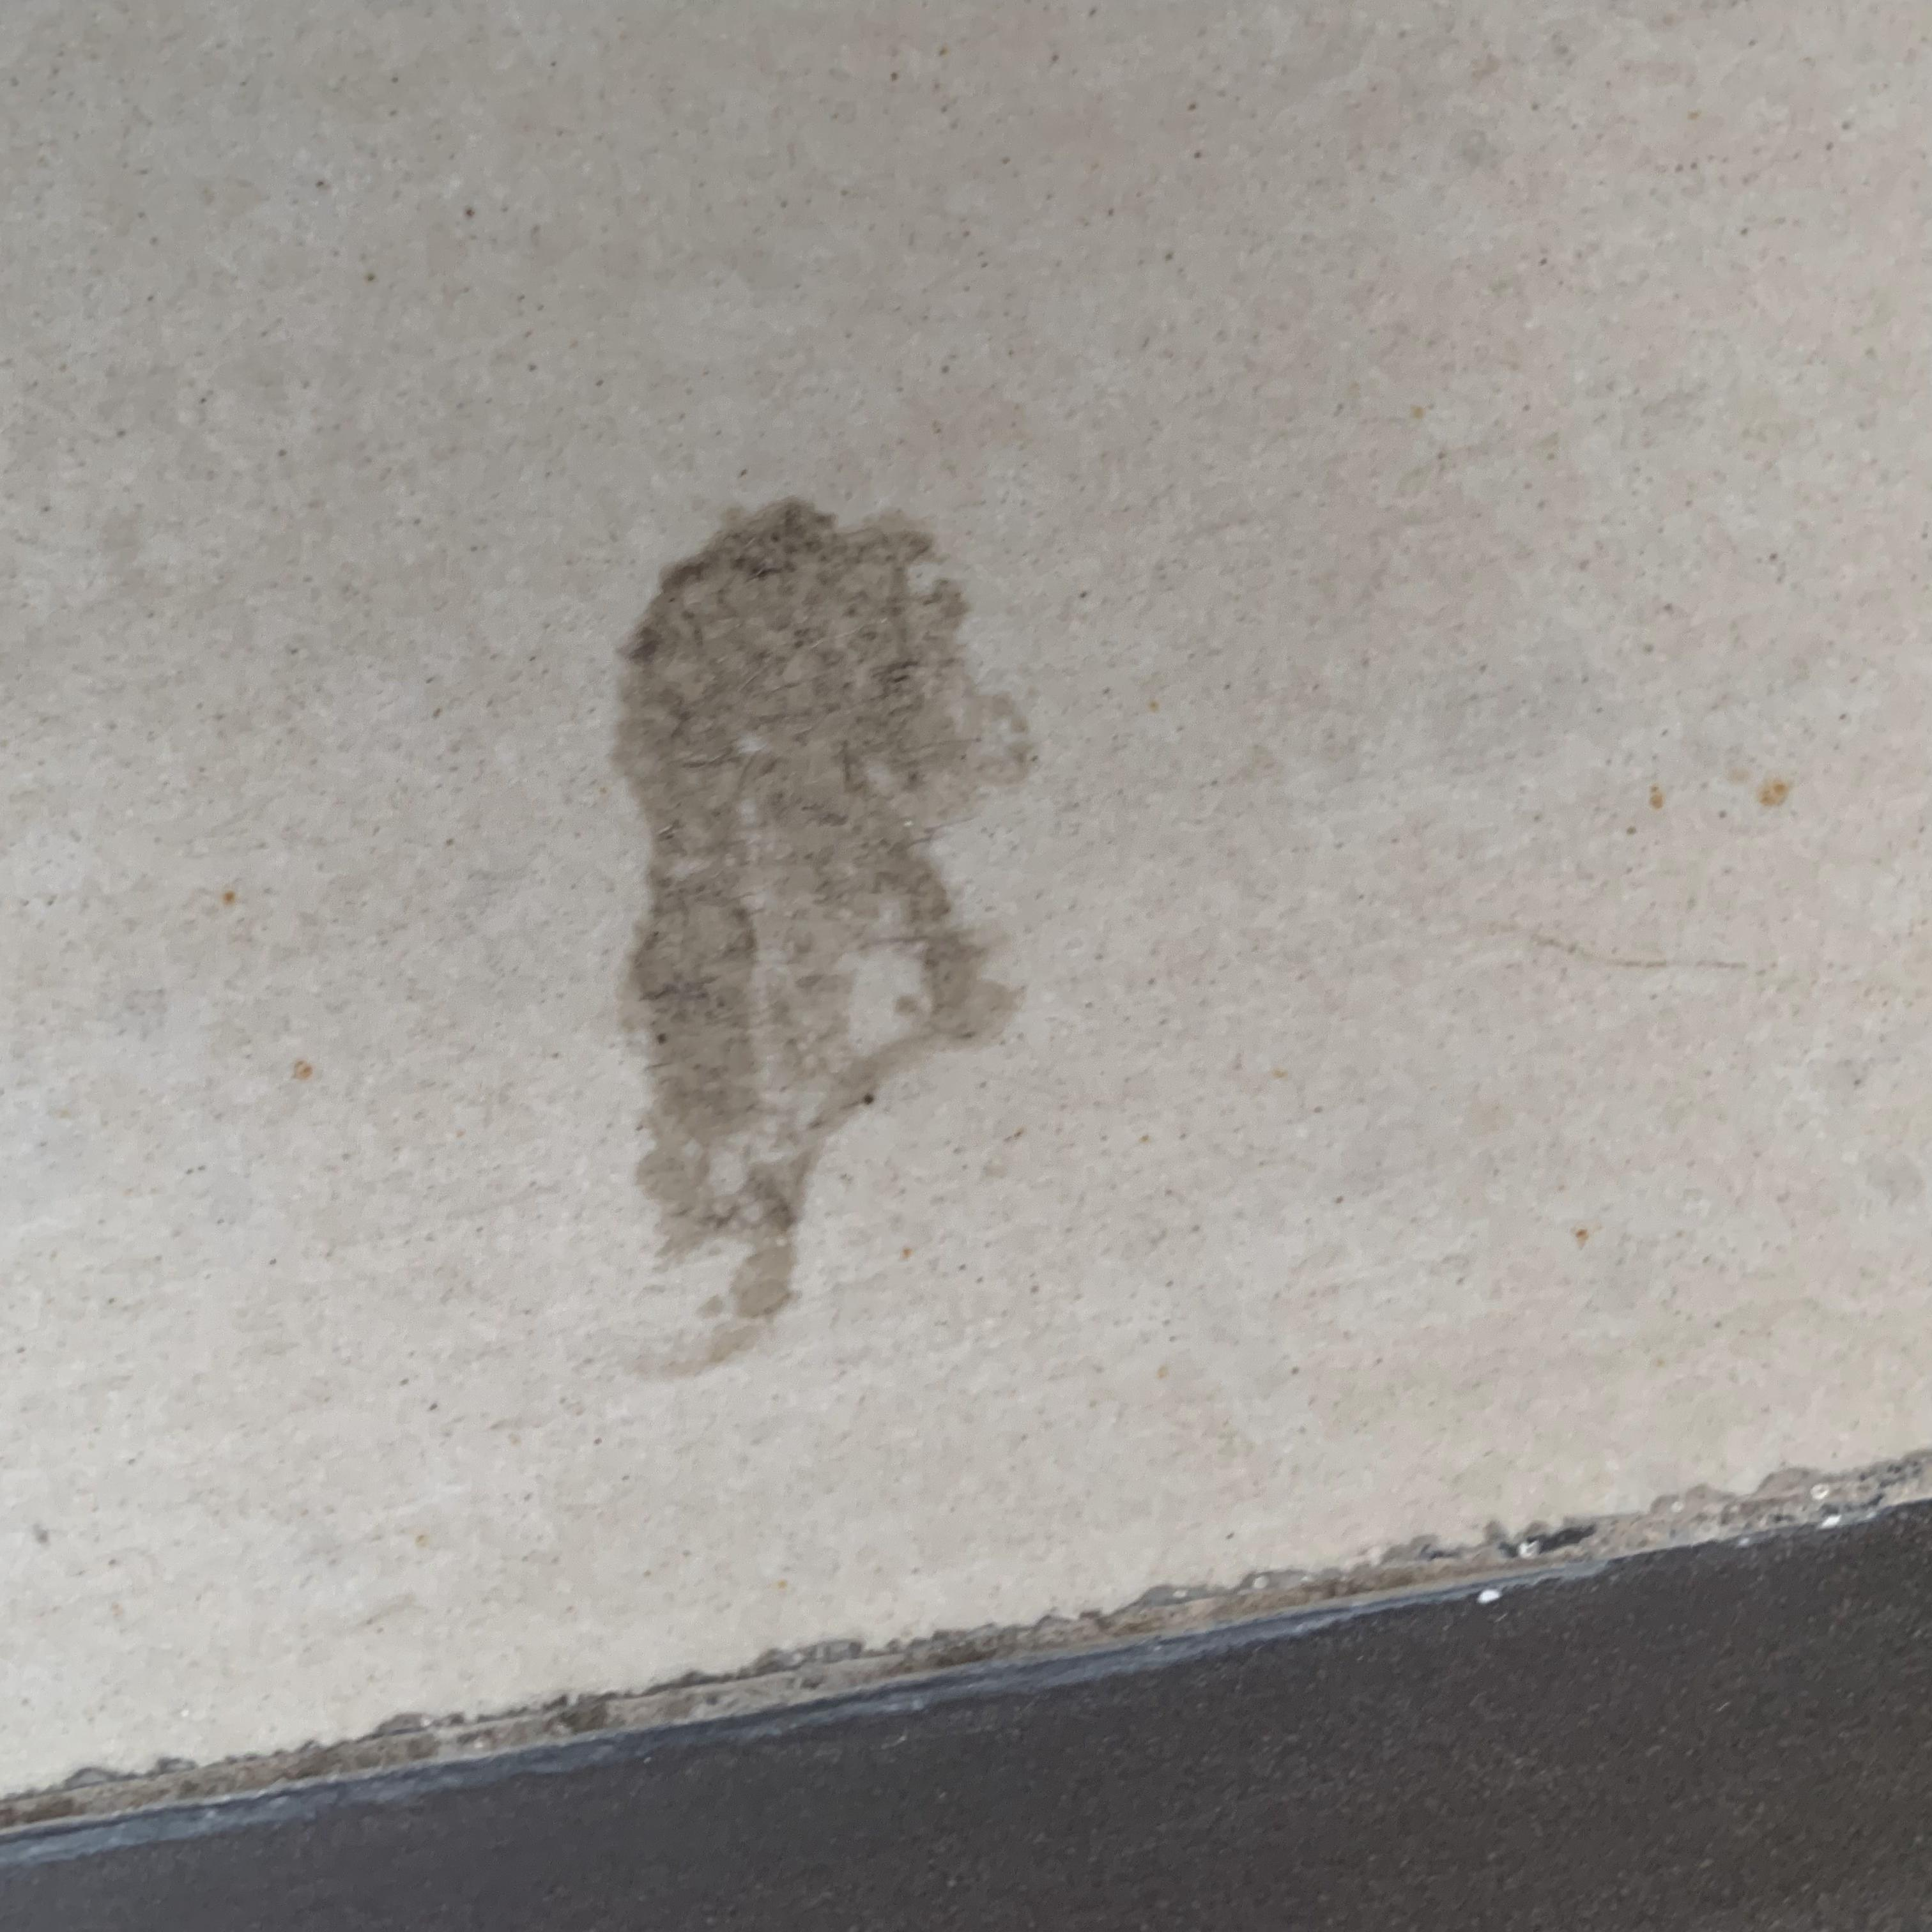grey spot: (610, 499, 1035, 1384)
